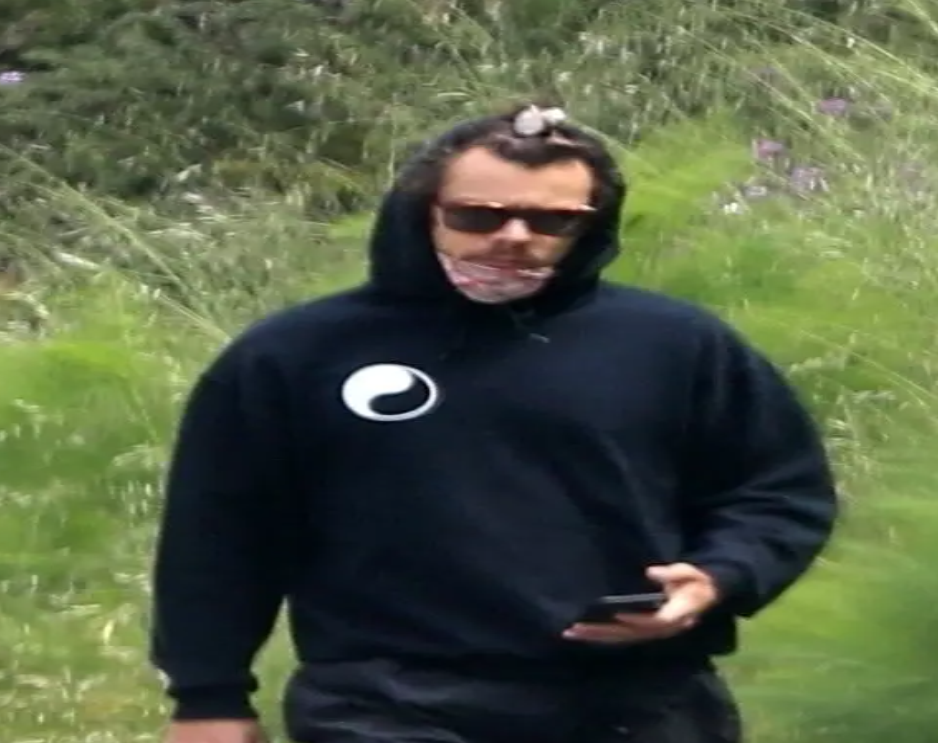mask_weared_incorrect: (397, 126, 624, 312)
